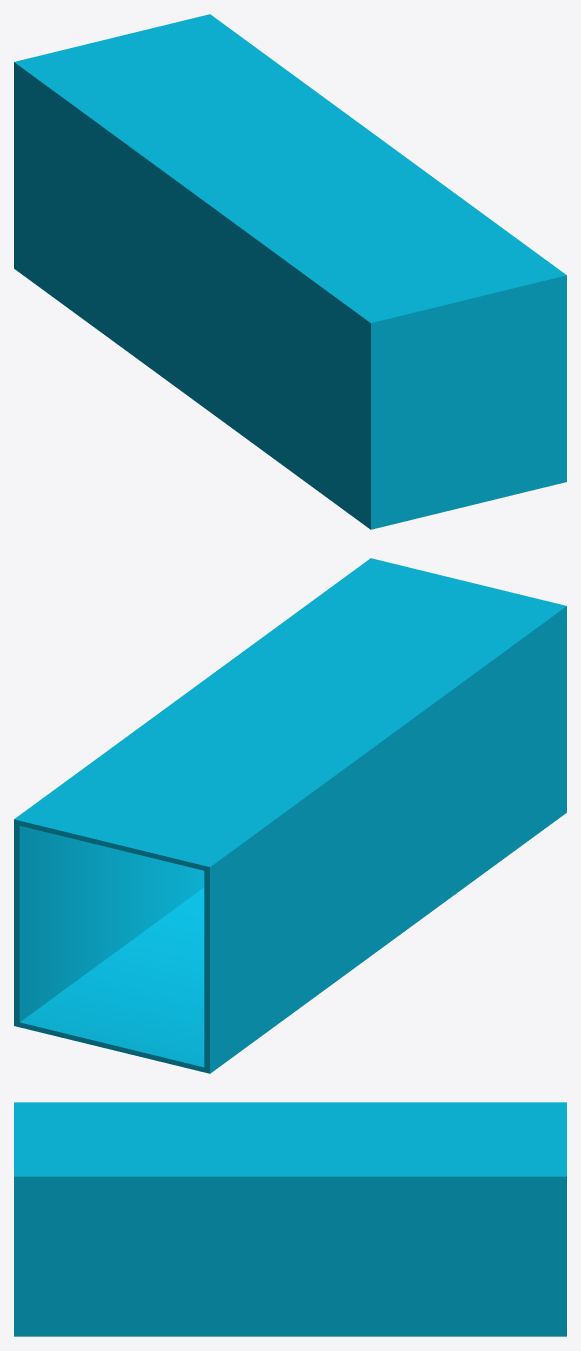
Rendered from Container_01_Lod1.fbx.
The picture shows the model from 3 angles, top to bottom: view 1: azimuth 30°, elevation 25°; view 2: azimuth 150°, elevation 25°; view 3: azimuth 270°, elevation 25°; orthographic projection. The views are drawn at different scales.
Visible parts, largest first — view 1: Container_01_Lod1; view 2: Container_01_Lod1; view 3: Container_01_Lod1.
Part boxes in pixels (x1=…): Container_01_Lod1: x1=14, y1=14, x2=566, y2=529; Container_01_Lod1: x1=14, y1=558, x2=566, y2=1073; Container_01_Lod1: x1=14, y1=1102, x2=566, y2=1336.
Size of the model in its own units: 264 by 266 by 833.
